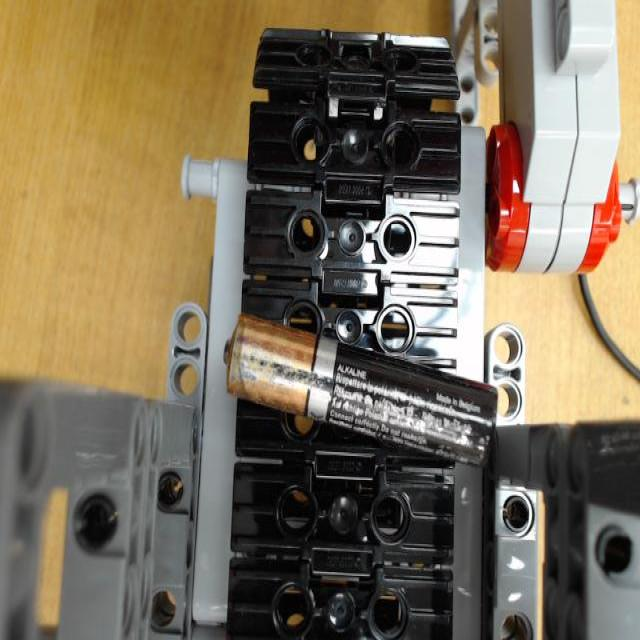AAA: (220, 310, 498, 469)
